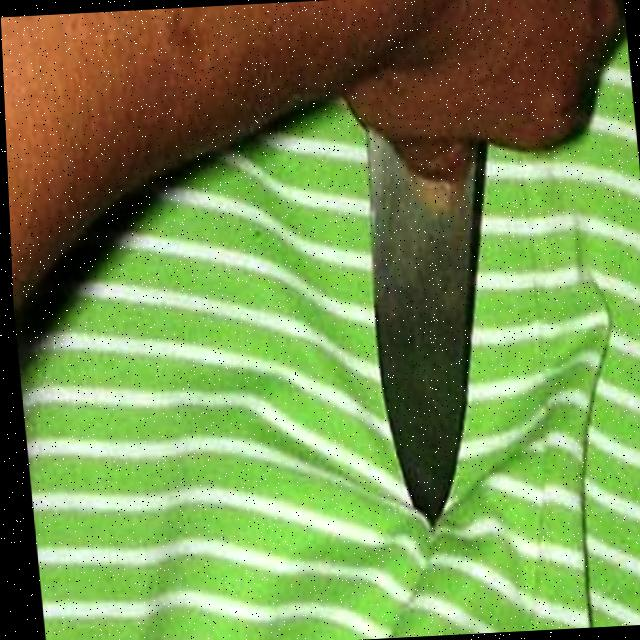knife: (353, 118, 520, 532)
